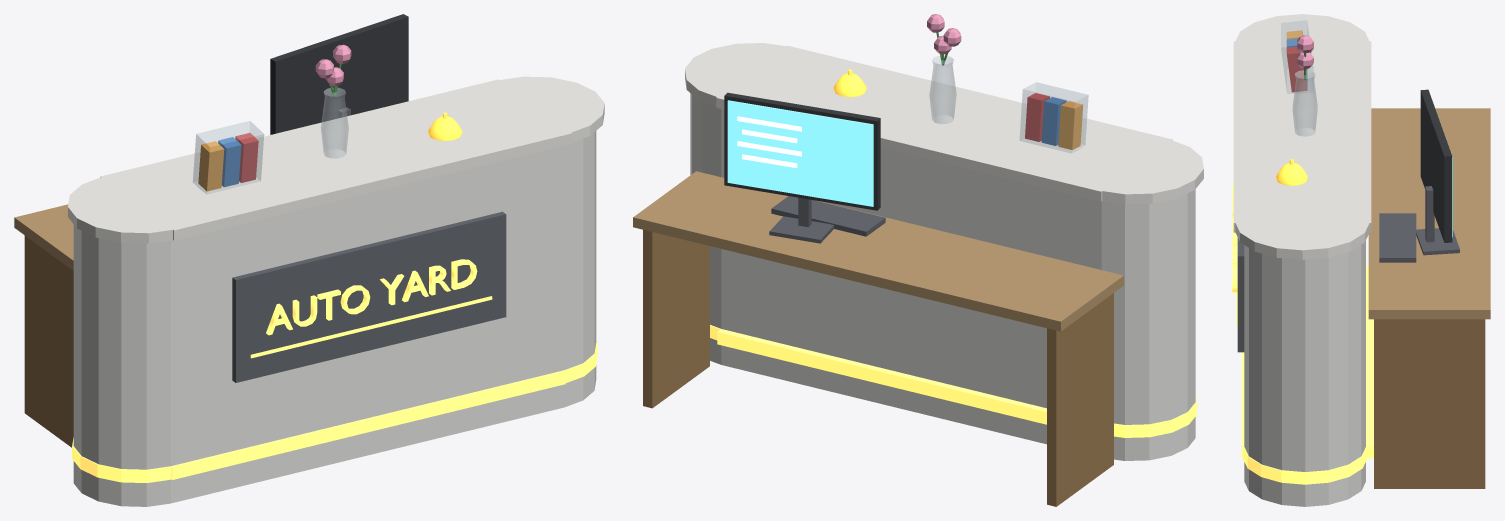
The model's file is reception_desk.glb.
3 renders of one model, left to right at view 1: azimuth 30°, elevation 25°; view 2: azimuth 150°, elevation 25°; view 3: azimuth 270°, elevation 25°, orthographic. The views are drawn at different scales.
Parts seen in each view (by area): view 1: reception_desk; view 2: reception_desk; view 3: reception_desk.
Part boxes in pixels (x1=…): reception_desk: x1=14, y1=14, x2=604, y2=506; reception_desk: x1=633, y1=14, x2=1203, y2=506; reception_desk: x1=1232, y1=14, x2=1490, y2=506.
Size of the model in its own units: 2.11 by 1.5 by 0.975.
